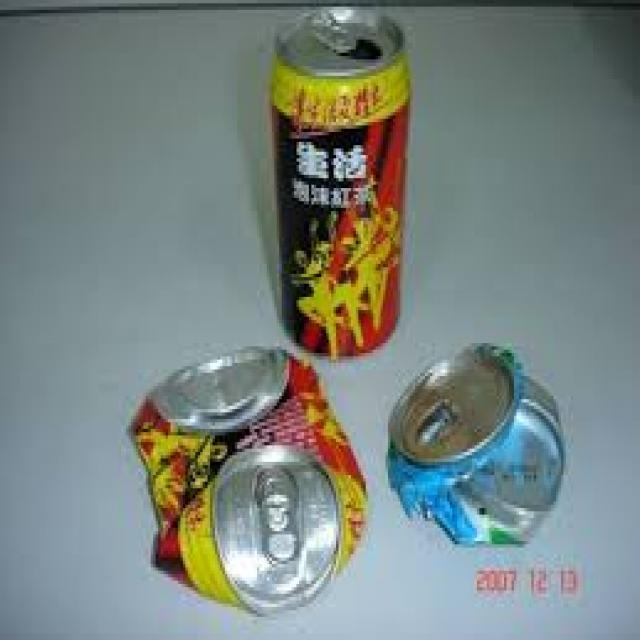recyclable: (127, 345, 367, 613), (268, 7, 414, 360), (385, 341, 566, 550)
